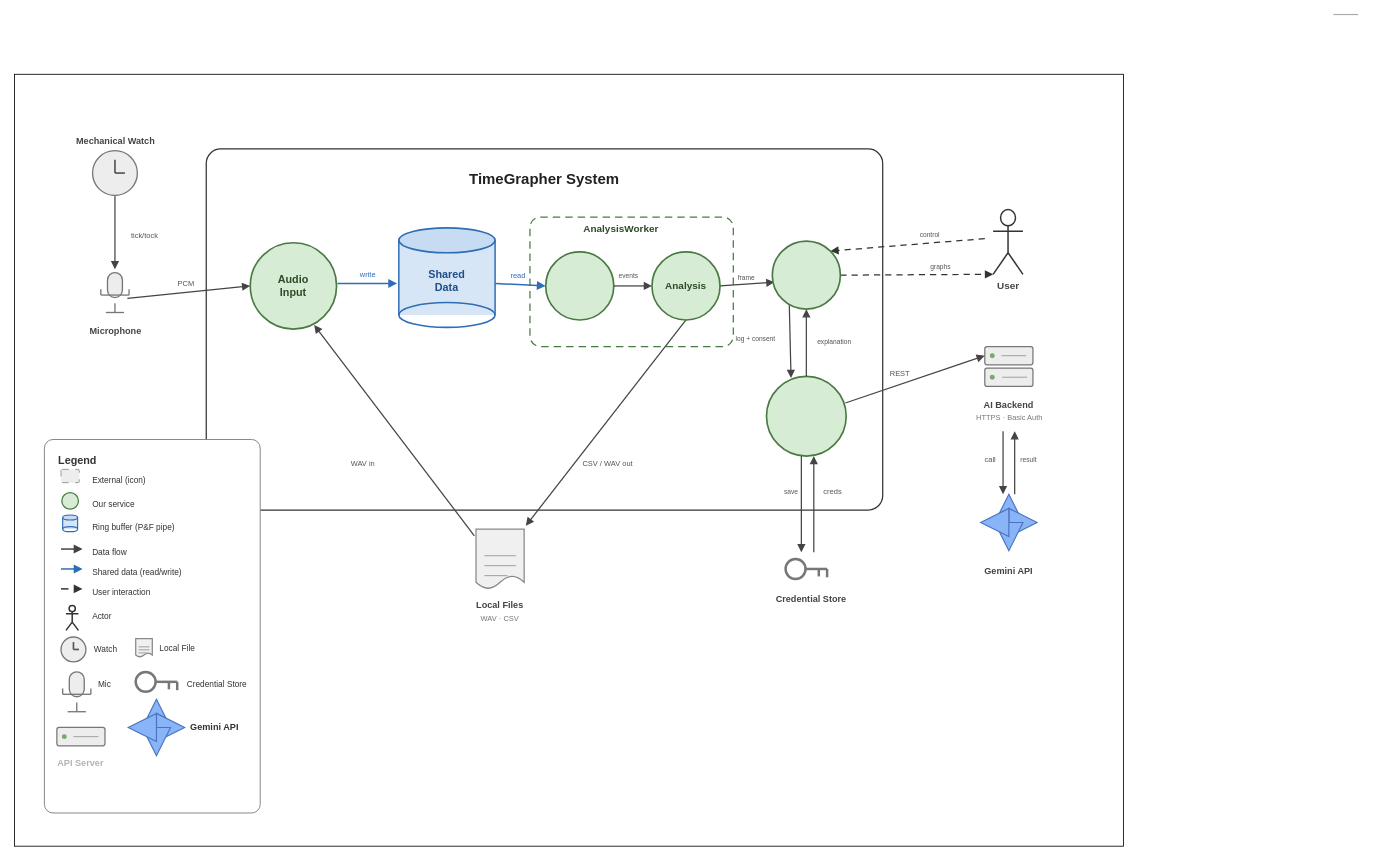
Some shapes in this 1374 by 862 pixel diagram are drawn without their labels. The shapes that lost their labels are listed below. From the top down, each one's centre as x and y in pixels, then its label:
At [579,285]: "Detector".
At [806,275]: "UI Thread".
At [806,415]: "AI Analysis".
